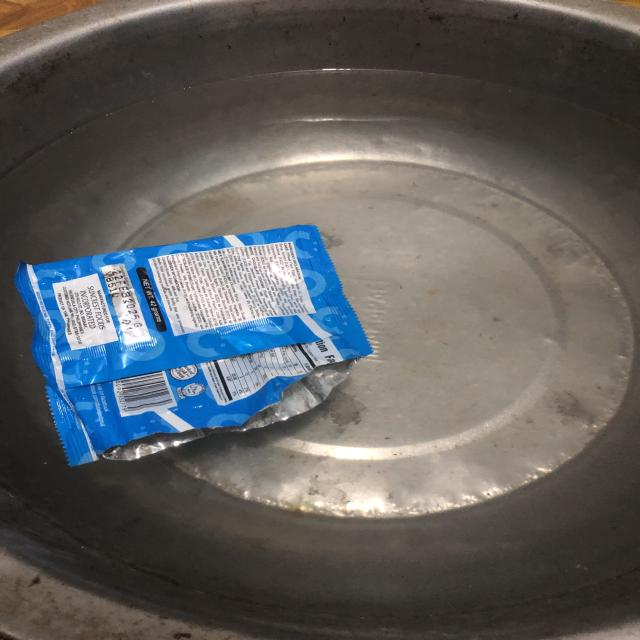Plastic Wrapper: (0, 197, 400, 479)
